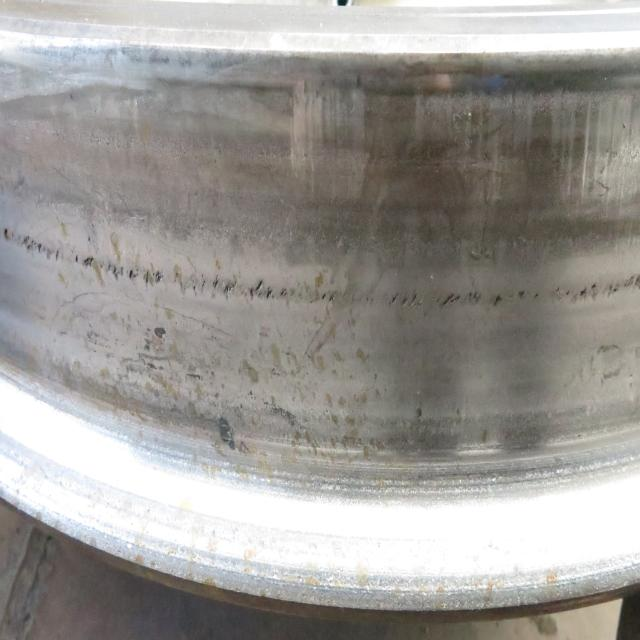Peeling: (200, 277, 291, 302), (5, 228, 61, 264), (103, 261, 162, 282), (492, 291, 539, 310), (604, 277, 640, 301), (384, 290, 421, 313), (444, 294, 483, 309), (564, 287, 597, 299), (75, 254, 93, 269), (318, 291, 338, 304)
